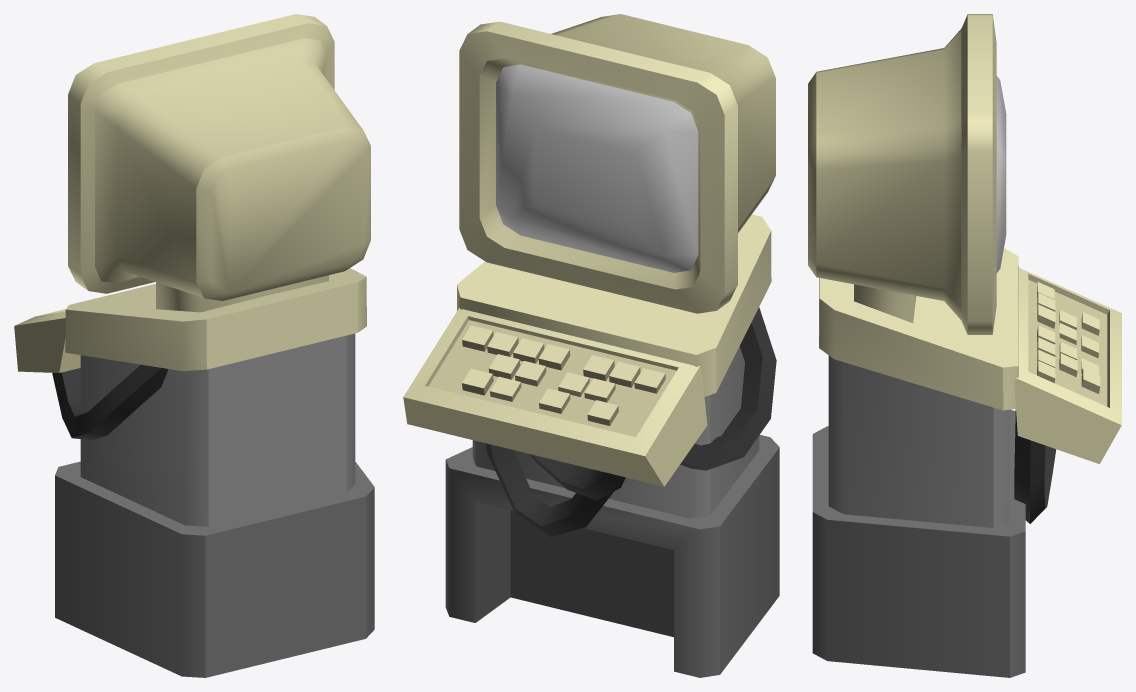
The model's file is ComputerOLD.fbx.
The picture shows the model from 3 angles, left to right: view 1: azimuth 30°, elevation 25°; view 2: azimuth 150°, elevation 25°; view 3: azimuth 270°, elevation 25°; orthographic projection. The views are drawn at different scales.
Visible parts, largest first — view 1: ComputerOLD; view 2: ComputerOLD; view 3: ComputerOLD.
Part boxes in pixels (x1,y1,x2,y2): ComputerOLD: [14, 14, 374, 677]; ComputerOLD: [403, 14, 779, 677]; ComputerOLD: [808, 14, 1121, 677].
Size of the model in its own units: 0.714 by 1.4 by 0.7229.
